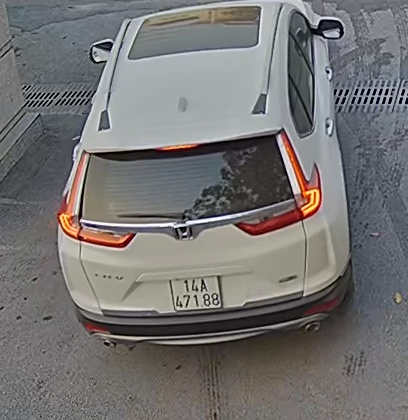vehicle plate: (169, 270, 228, 315)
